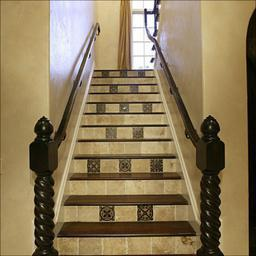Escaleras: (32, 67, 224, 253)
